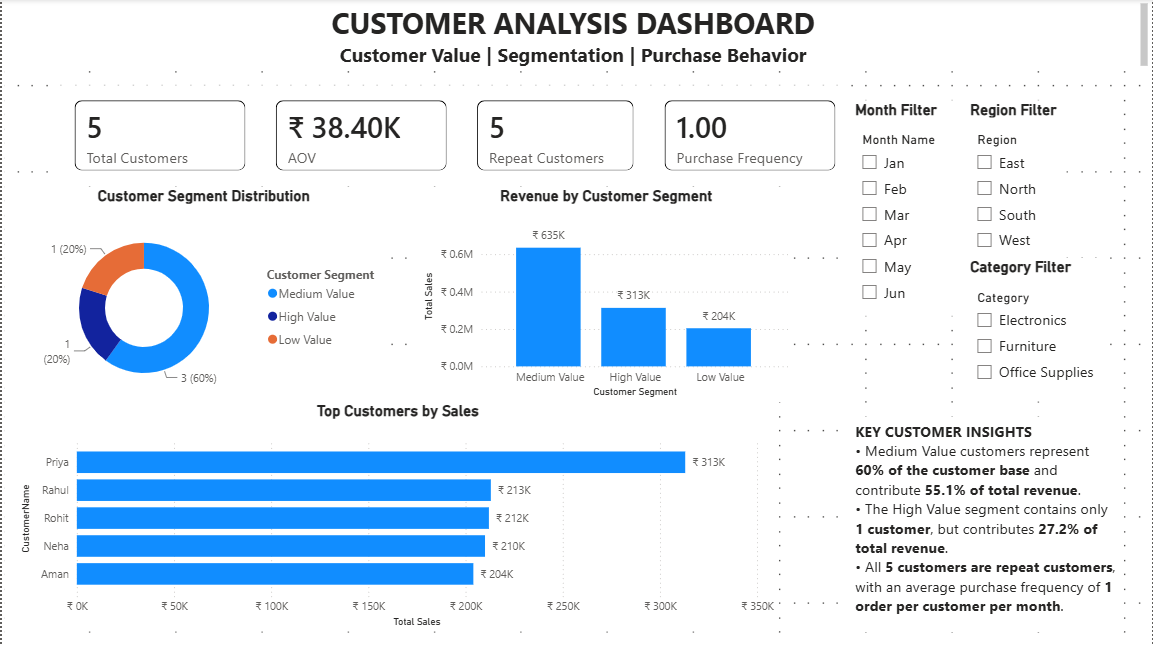

The dashboard page shown, as its layout file describes it:
{"tool":"powerbi","page":{"name":"Customer Analysis","canvas":[1280,720],"ordinal":1},"visuals":[{"type":"donutChart","title":"Customer Segment Distribution","fields":{"Category":["sales_analytics customers.Customer Segment"],"Y":["CountNonNull(sales_analytics customers.CustomerID)"]},"box":[16,208,416,240],"z":1},{"type":"clusteredColumnChart","title":"Revenue by Customer Segment","fields":{"Y":["sales_analytics orders.Total Sales"],"Category":["sales_analytics customers.Customer Segment"]},"box":[464,208,416,240],"z":2},{"type":"cardVisual","fields":{"Data":["sales_analytics orders.Total Customers"]},"box":[144,96,224,112],"z":3},{"type":"cardVisual","fields":{"Data":["sales_analytics orders.AOV"]},"box":[400,96,224,112],"z":4},{"type":"cardVisual","fields":{"Data":["sales_analytics orders.Repeat Customers"]},"box":[656,96,208,112],"z":5},{"type":"cardVisual","fields":{"Data":["sales_analytics orders.Purchase Frequency"]},"box":[896,96,224,112],"z":7},{"type":"clusteredBarChart","title":"Top Customers by Sales","fields":{"Category":["sales_analytics customers.CustomerName"],"Y":["sales_analytics orders.Total Sales"]},"box":[16,448,848,256],"z":8},{"type":"textbox","box":[0,0,1280,80],"z":9},{"type":"textbox","box":[944,272,304,240],"z":10}]}

Visuals, with their boxes in screenshot pixels (x1, y1, x2, y2), scaled from the page's 1280x720 canvas onto the 1153x646 screenshot:
"Customer Segment Distribution" donutChart: 14,187,389,402
"Revenue by Customer Segment" clusteredColumnChart: 418,187,793,402
cardVisual - sales_analytics orders.Total Customers: 130,86,331,187
cardVisual - sales_analytics orders.AOV: 360,86,562,187
cardVisual - sales_analytics orders.Repeat Customers: 591,86,778,187
cardVisual - sales_analytics orders.Purchase Frequency: 807,86,1009,187
"Top Customers by Sales" clusteredBarChart: 14,402,778,632
textbox: 0,0,1152,72
textbox: 850,244,1124,459
